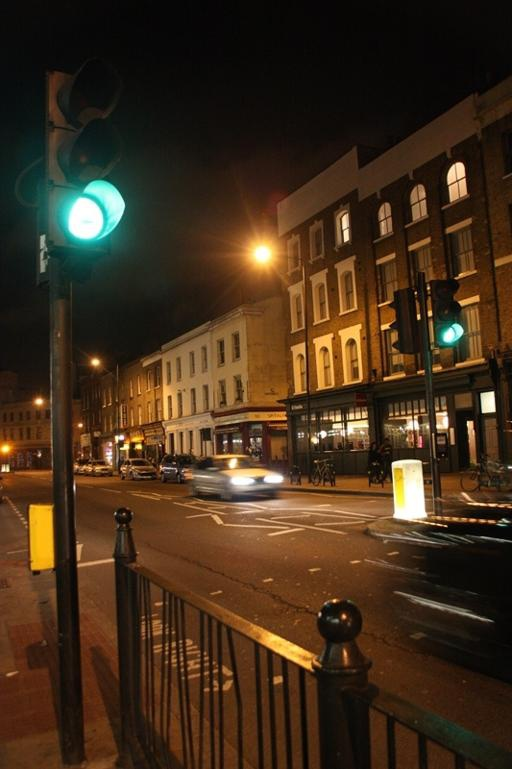non-vehicle: (460, 454, 511, 492), (311, 459, 335, 486)
